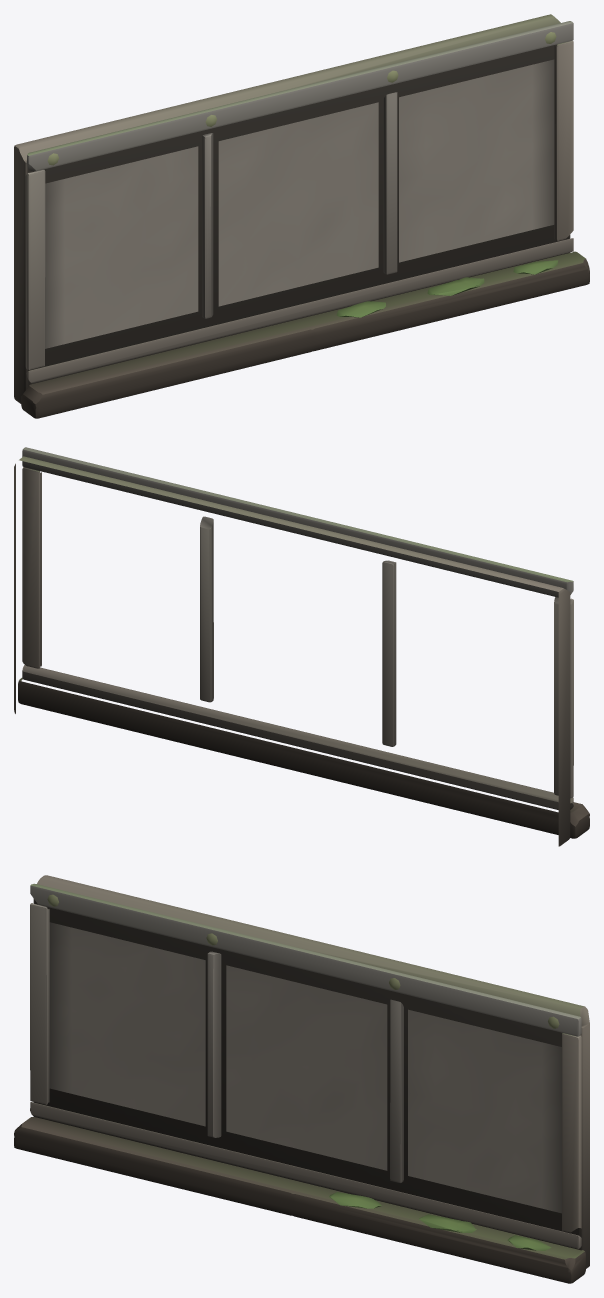
File: ruins-mural.glb
The picture shows the model from 3 angles, top to bottom: view 1: azimuth 30°, elevation 25°; view 2: azimuth 150°, elevation 25°; view 3: azimuth 330°, elevation 25°; orthographic projection.
Parts seen in each view (by area): view 1: 0_ruins_mural; view 2: 0_ruins_mural; view 3: 0_ruins_mural.
Part boxes in pixels (x1,y1,x2,y2): 0_ruins_mural: (14,14,589,418); 0_ruins_mural: (14,447,589,846); 0_ruins_mural: (14,875,589,1283).
Bounding box in the file's own units: 5.7 × 2.5 × 0.488.
